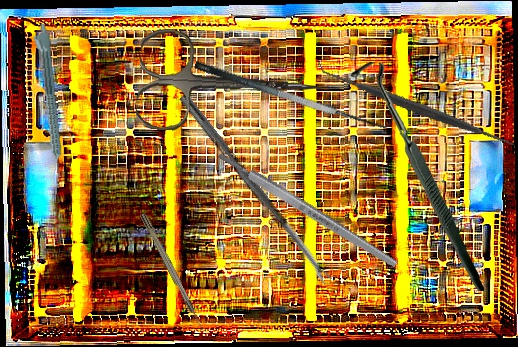Handpiece: (31, 23, 65, 179)
Hook Surgical: (343, 61, 492, 292), (139, 212, 206, 332)
Iris Scissors: (135, 27, 326, 141)
Scalpel Handle: (215, 149, 400, 271)
Spatula Surgical: (318, 10, 518, 205), (193, 43, 396, 140)
Surgical Spoon: (178, 93, 332, 286)
